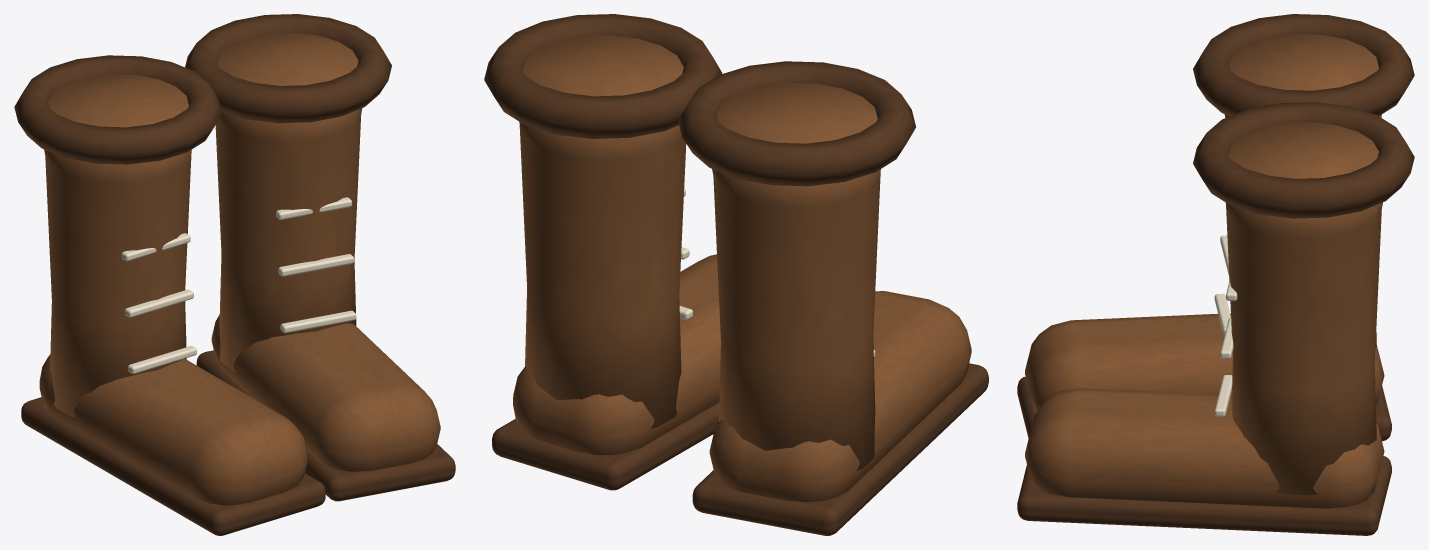
The model's file is boots_leather.glb.
The picture shows the model from 3 angles, left to right: view 1: azimuth 30°, elevation 25°; view 2: azimuth 150°, elevation 25°; view 3: azimuth 270°, elevation 25°; orthographic projection. The views are drawn at different scales.
Visible parts, largest first — view 1: boot (×2); view 2: boot (×2); view 3: boot (×2).
Boxes of the visible parts, x1=… form: boot (×2): x1=14, y1=14, x2=455, y2=535; boot (×2): x1=484, y1=14, x2=988, y2=535; boot (×2): x1=1017, y1=14, x2=1414, y2=535.
Bounding box in the file's own units: 0.3014 × 0.2791 × 0.2788.
4 materials, 3 textured.
